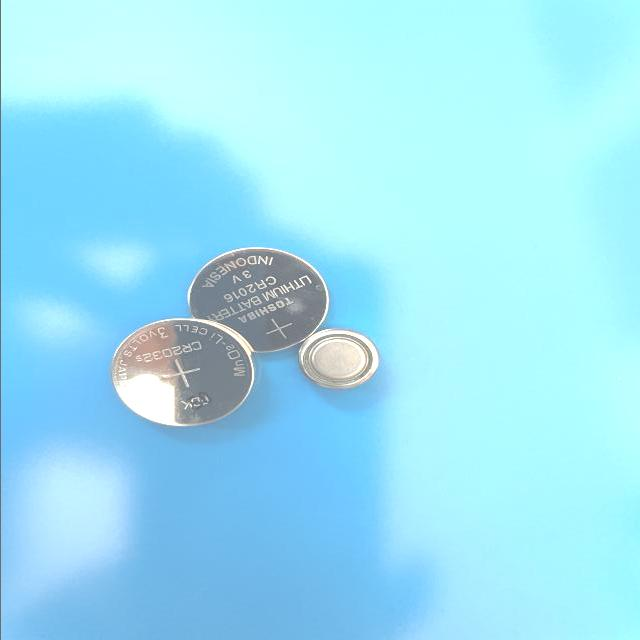COIN: (106, 318, 253, 426), (186, 245, 328, 353), (293, 326, 384, 390)
